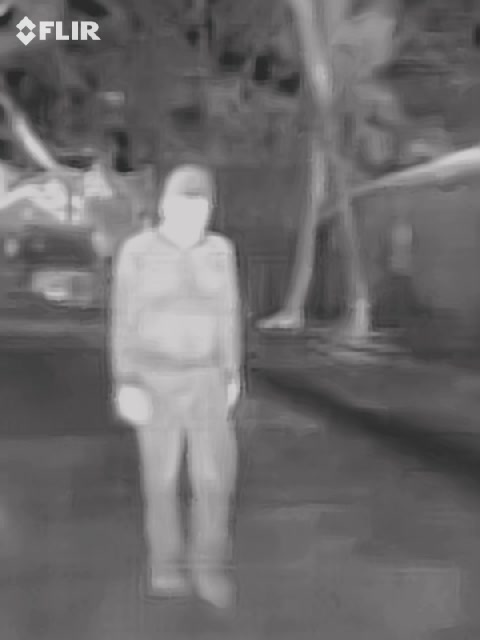head: (158, 161, 216, 237)
